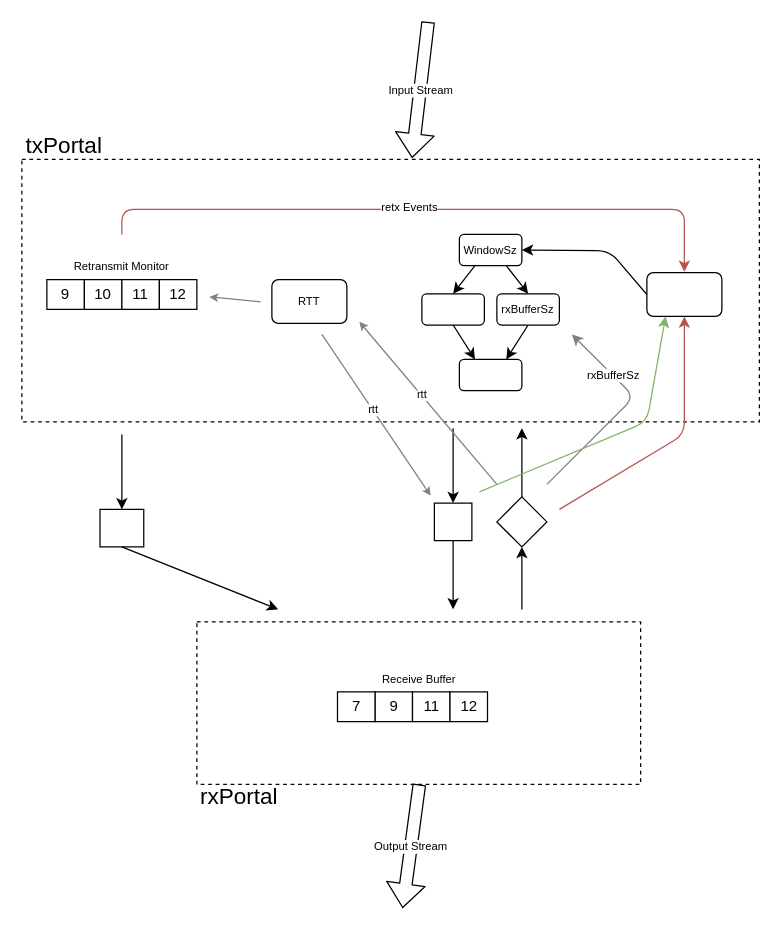
This 781x930 diagram has some shape labels left out. Here are the shapes that lost their labels. From the top down, the centre of each, then its label:
[452,308]: txBufferSz
[684,293]: Window Scaling
[490,374]: Capacity
[121,527]: reTX
[452,521]: TX
[521,521]: ACK
